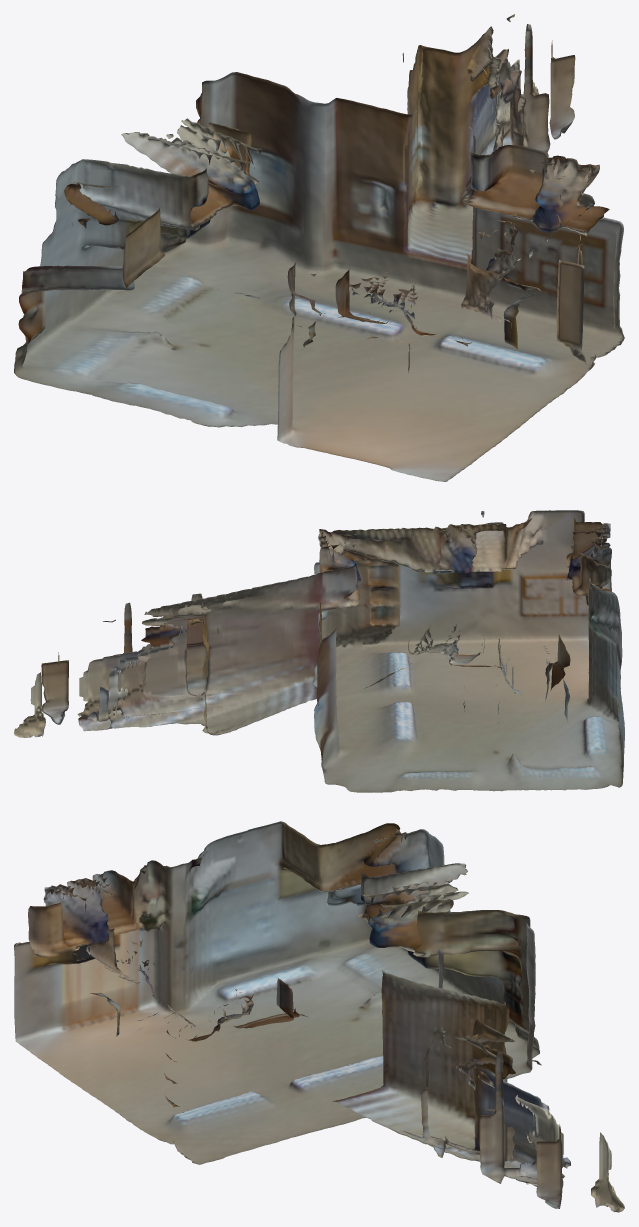
File: collider.glb
3 views of the same model, one above another, from view 1: azimuth 30°, elevation 25°; view 2: azimuth 150°, elevation 25°; view 3: azimuth 270°, elevation 25° (orthographic). The views are drawn at different scales.
Parts seen in each view (by area): view 1: world; view 2: world; view 3: world.
Part boxes in pixels (left/top/right/bottom): world: left=14, top=14, right=624, bottom=481; world: left=14, top=510, right=624, bottom=792; world: left=14, top=821, right=624, bottom=1212.
Bounding box in the file's own units: 5.53 × 1.43 × 5.07.
